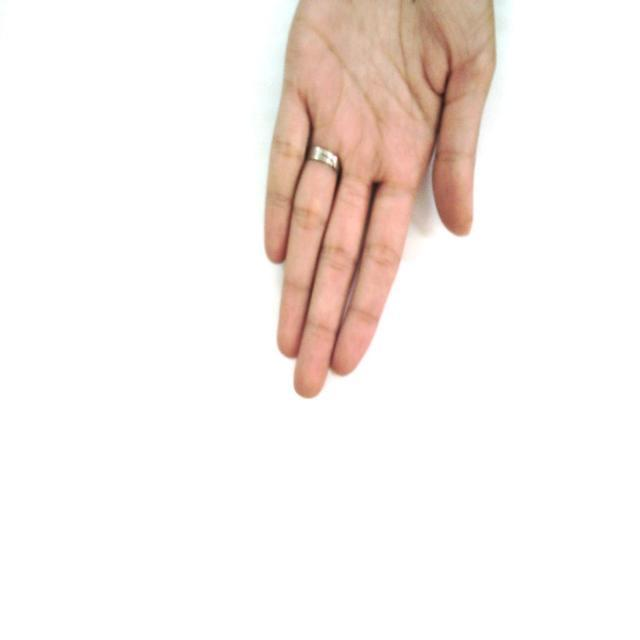hand: (263, 0, 497, 398)
